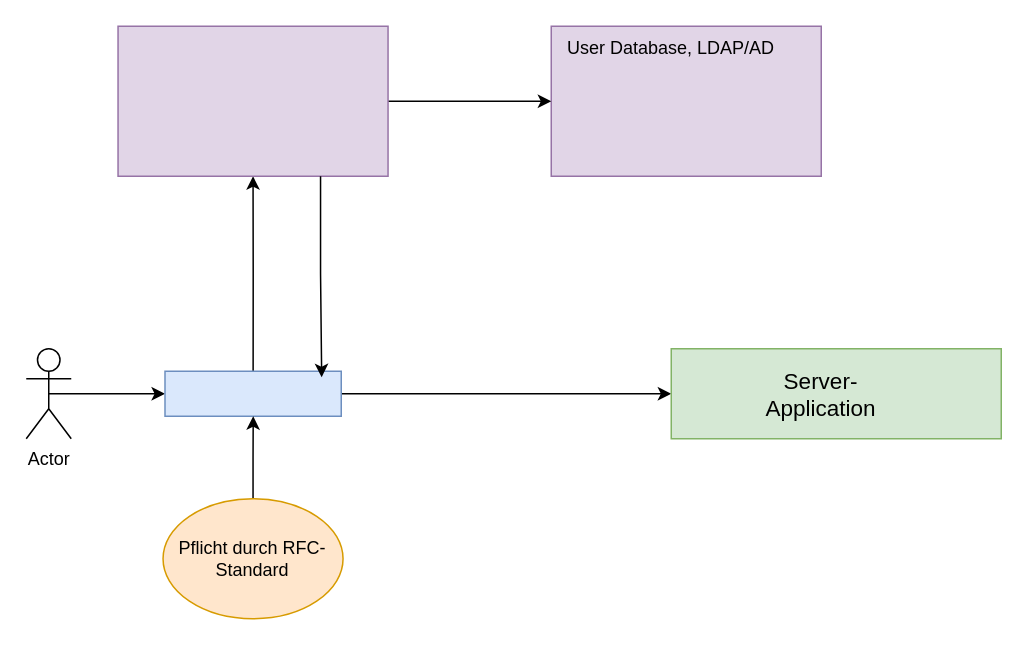
This 1028x645 diagram has some shape labels left out. The shapes that lost their labels are listed below. From the top down, each one's centre as x and y in pixels, then its label:
[252,100]: Trusted Authenticator
[252,393]: TLS / HTTPS
